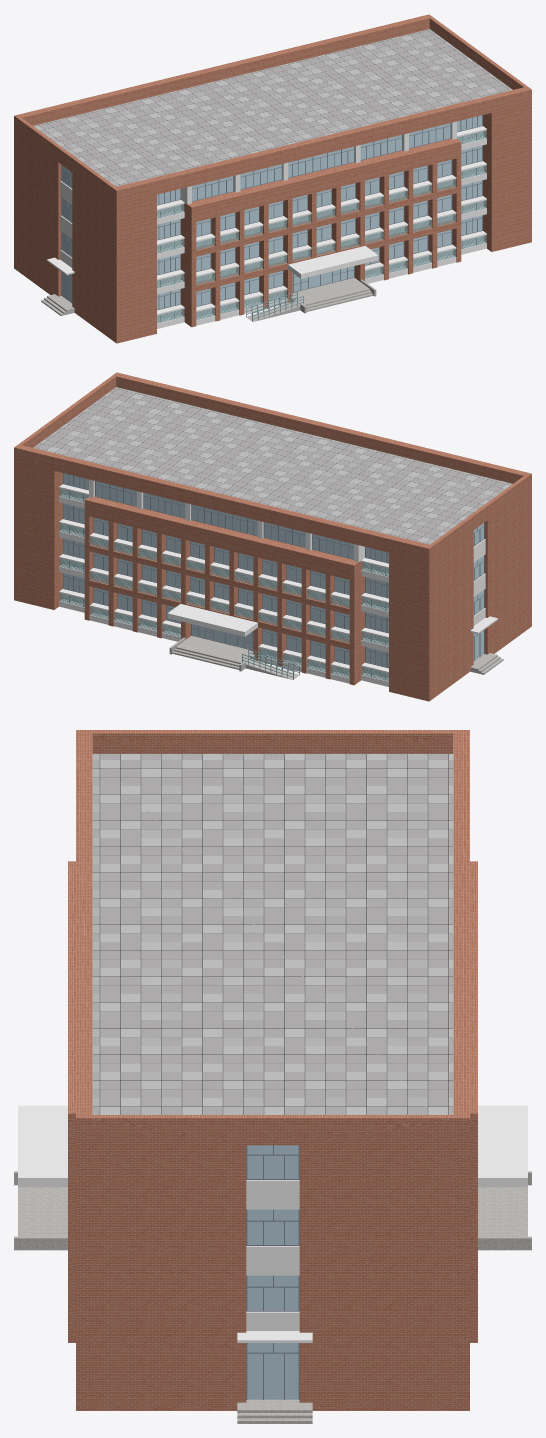
File: office_1.gltf
3 renders of one model, top to bottom at view 1: azimuth 30°, elevation 25°; view 2: azimuth 150°, elevation 25°; view 3: azimuth 270°, elevation 25°, orthographic. The views are drawn at different scales.
Parts seen in each view (by area): view 1: 办公楼172; view 2: 办公楼172; view 3: 办公楼172.
Boxes of the visible parts, box(x1,y1,x2,y2) form: 办公楼172: box(14, 14, 531, 343); 办公楼172: box(14, 372, 531, 701); 办公楼172: box(14, 730, 531, 1423).
Bounding box in the file's own units: 47.76 × 15.75 × 25.26.
Materials: 7 (3 with a texture image).
